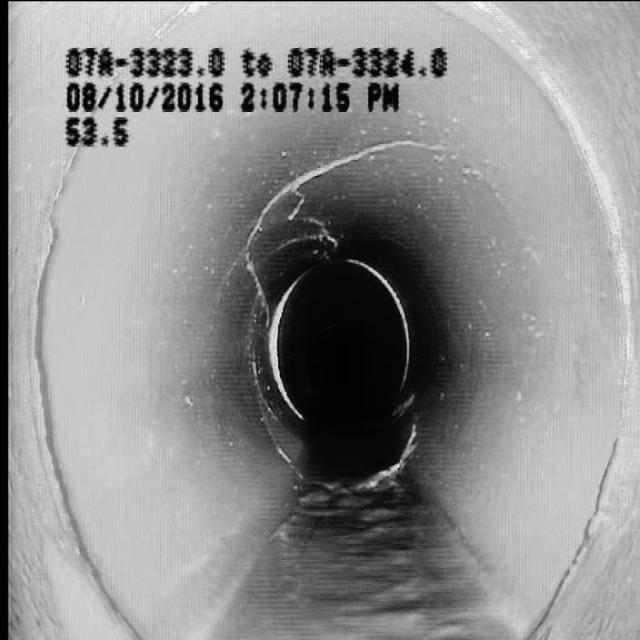Crack: (235, 149, 335, 270)
